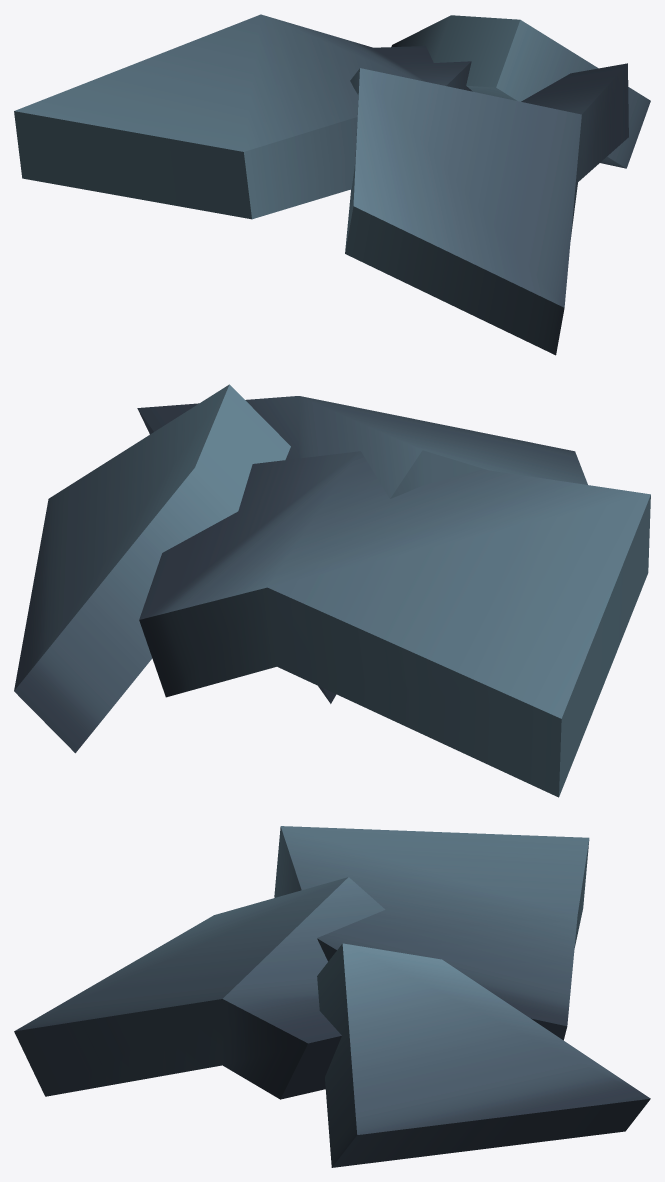
File: Building_T016.fbx
The picture shows the model from 3 angles, top to bottom: view 1: azimuth 30°, elevation 25°; view 2: azimuth 150°, elevation 25°; view 3: azimuth 270°, elevation 25°; orthographic projection. The views are drawn at different scales.
Parts seen in each view (by area): view 1: Building_T016; view 2: Building_T016; view 3: Building_T016.
Boxes of the visible parts, x1=… form: Building_T016: x1=14, y1=14, x2=650, y2=355; Building_T016: x1=14, y1=384, x2=650, y2=797; Building_T016: x1=14, y1=826, x2=650, y2=1167.
Bounding box in the file's own units: 13.43 × 4.98 × 13.8.
